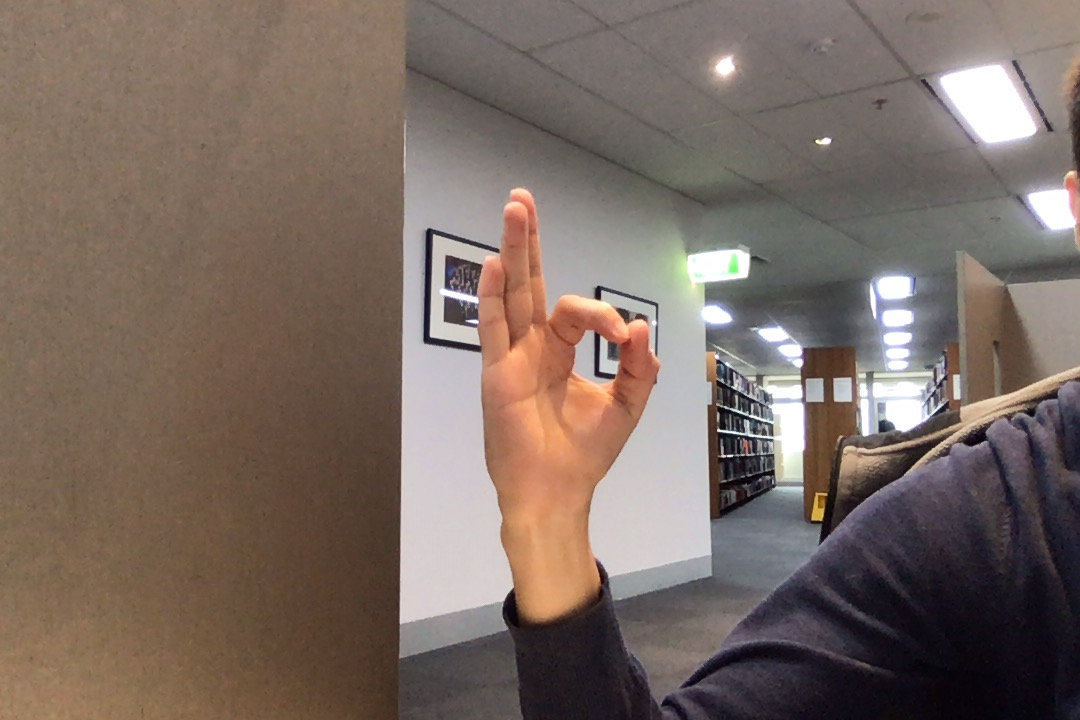oksign: (467, 179, 667, 514)
